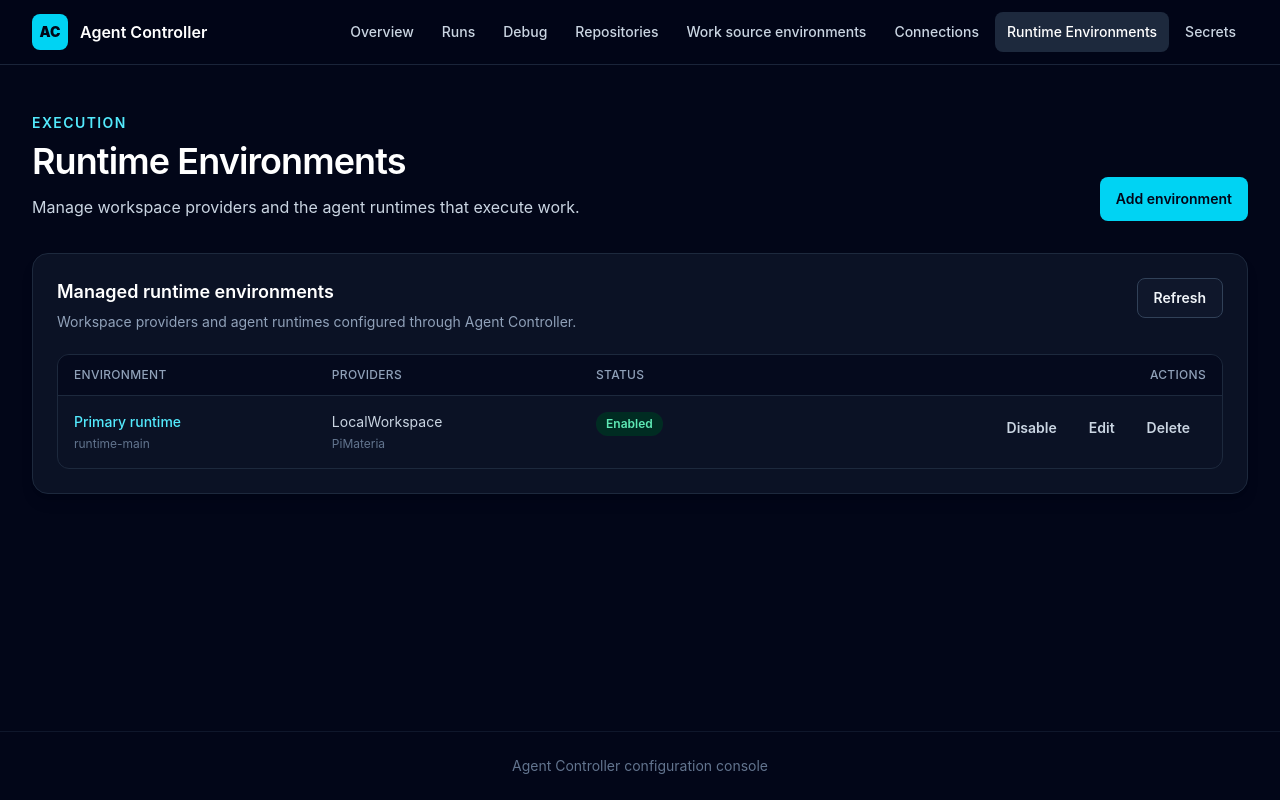
runtime environment screens › lists environments and shows loadout readouts without internal process or variable settings
Check: the text "Enabled" is shown, box [596,412,663,436]
What coordinates should you click on to do the following:
click the link "Primary runtime"
I would click on:
 (128, 422)
Its box is [74,413,181,430].
(page scrolled)
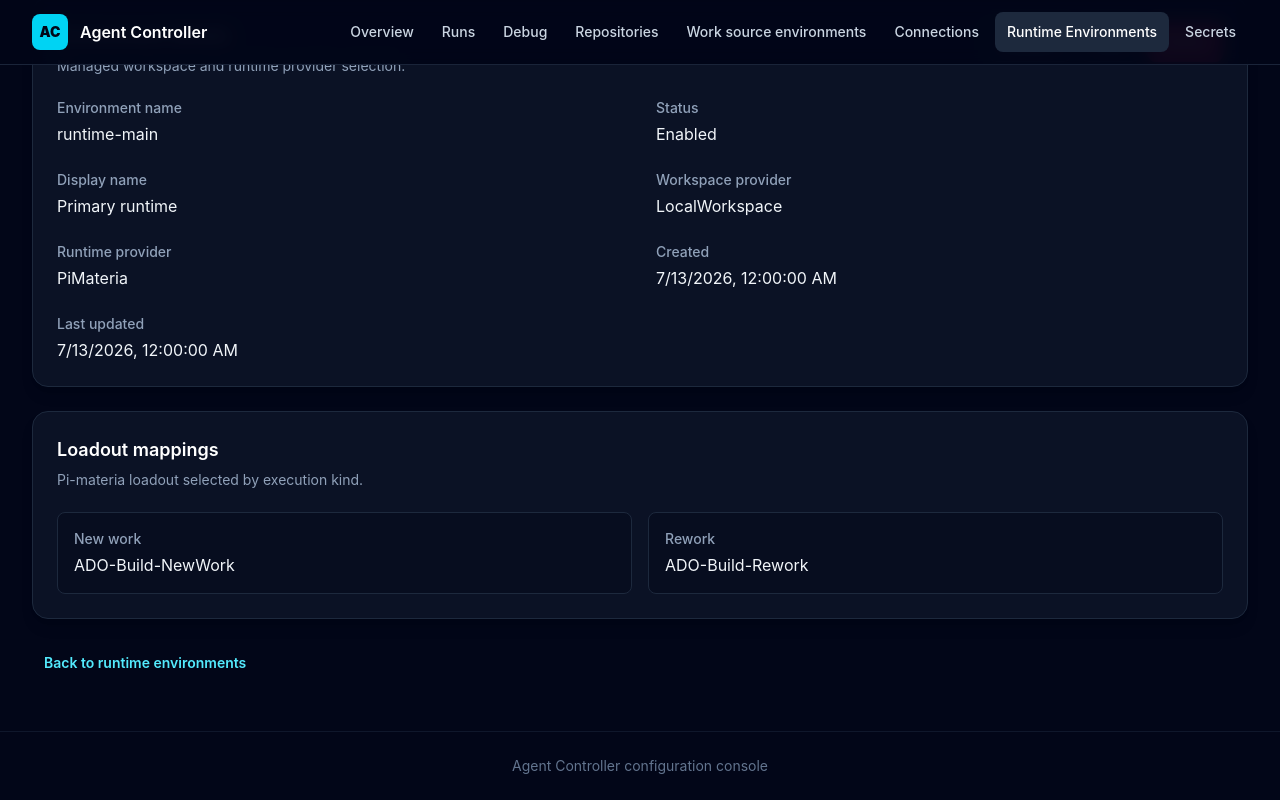
Check: the heading "Loadout mappings" is shown, box [57,439,219,460]
Check: the text "ADO-Build-NewWork" is shown, box [74,555,235,575]
